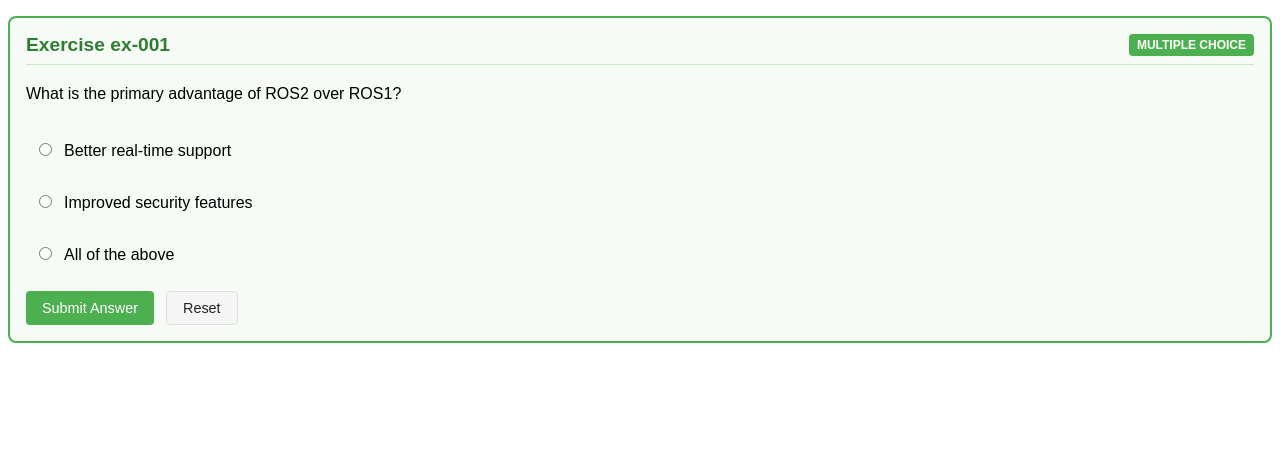
Scenario: Exercise Component › resets the exercise
Click the radio button labelled "Better real-time support" at {"x": 46, "y": 149}, box [39,143,52,156]
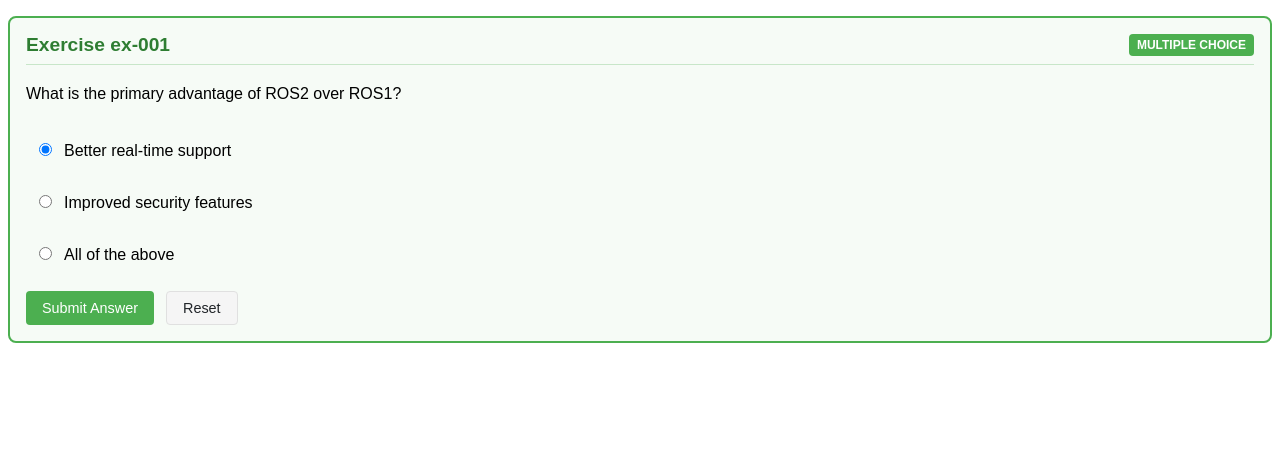
Click the button "Submit Answer" at {"x": 90, "y": 308}, box [26,291,154,325]
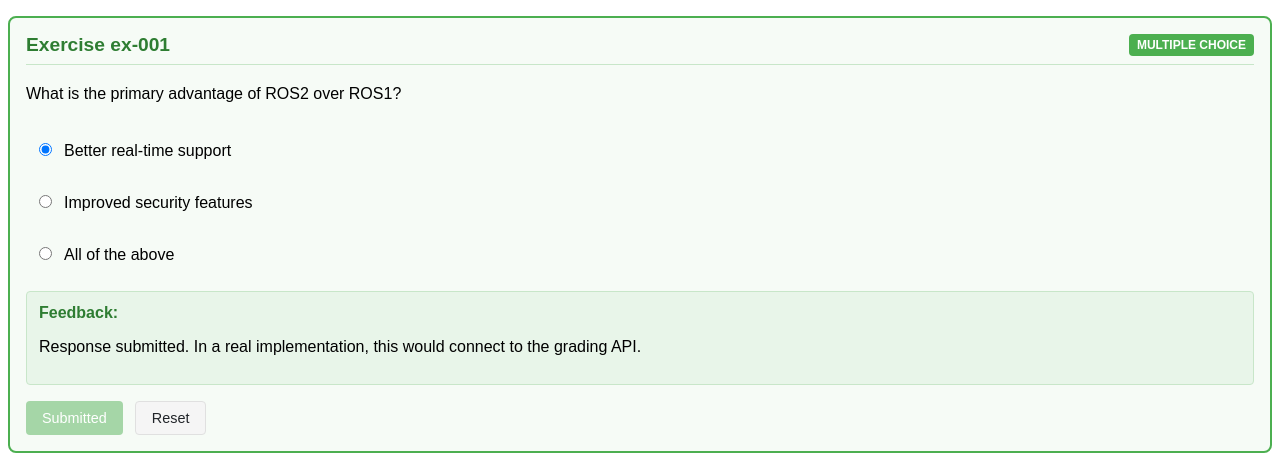
expect the button "Submit Answer" is disabled: met, box [26,401,123,435]
Click the button "Reset" at {"x": 171, "y": 418}, box [135,401,206,435]
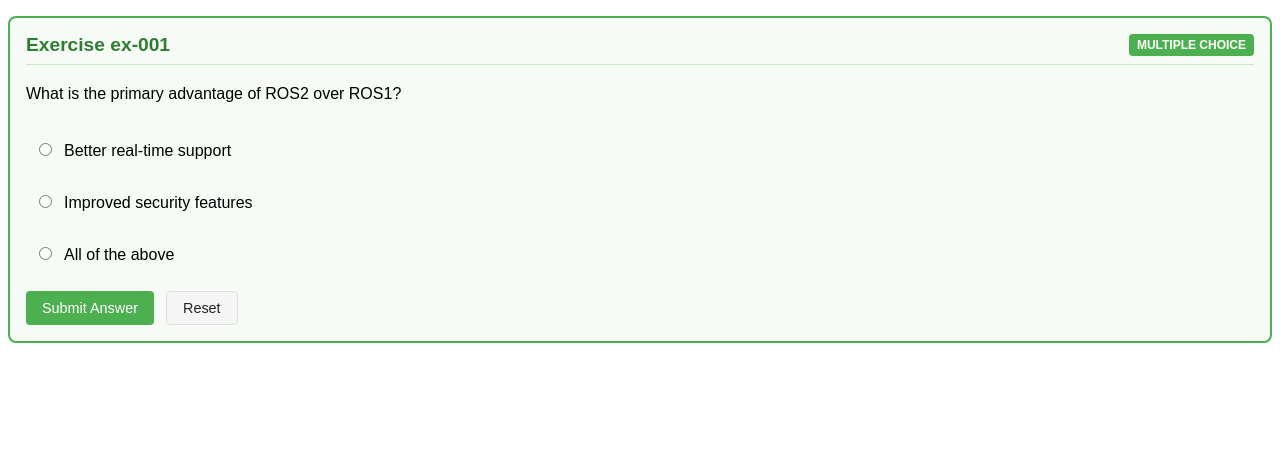
expect the button "Submit Answer" is enabled: met, box [26,291,154,325]
expect the text "Response submitted. In a real implementation, this would connect to the grading API." is gone: met
